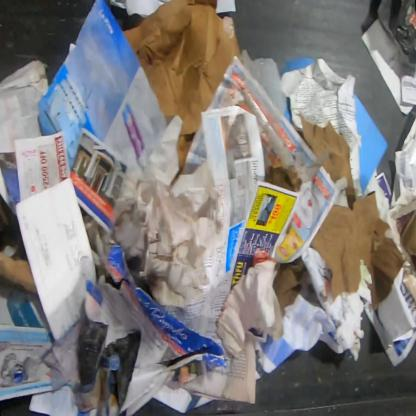cardboard: (122, 0, 241, 170), (310, 192, 404, 310), (300, 110, 356, 210), (272, 256, 310, 318), (0, 251, 38, 293)
soft_plastic: (376, 0, 416, 65)
